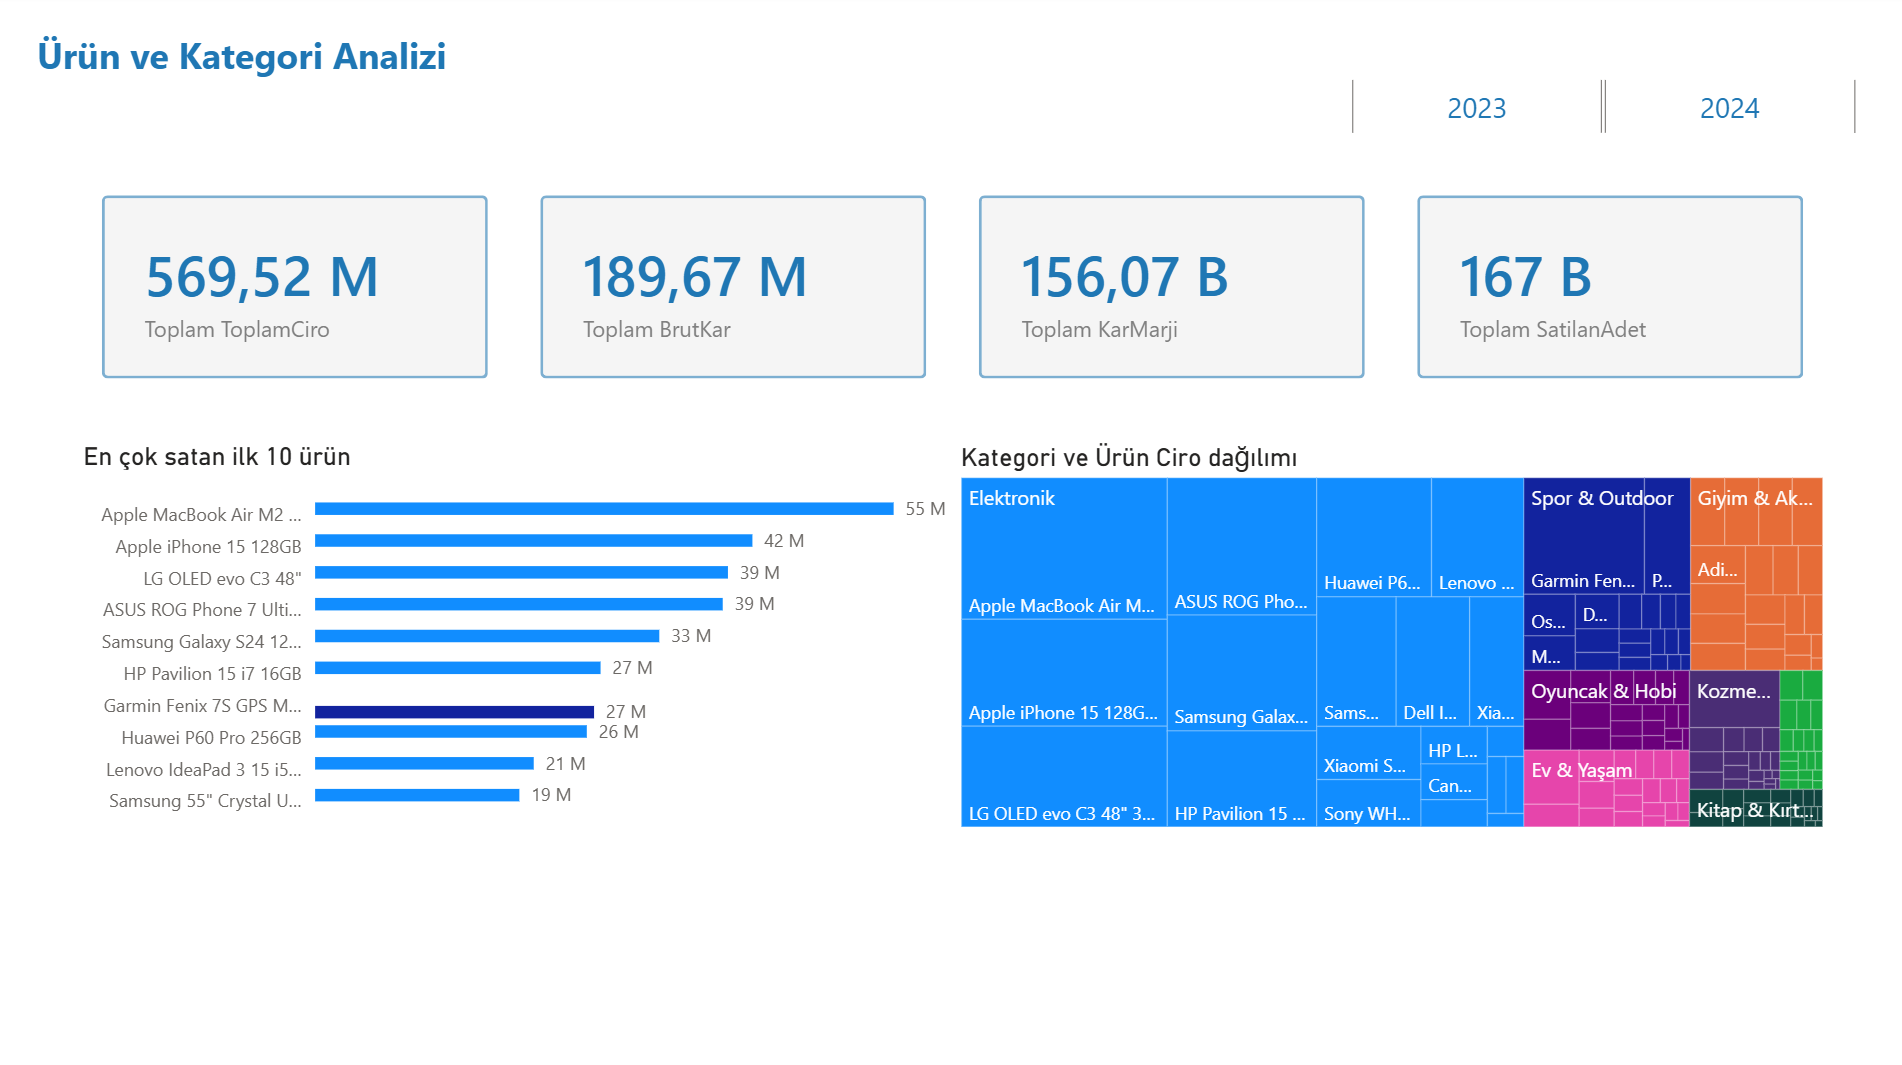

The dashboard page shown, as its layout file describes it:
{"tool":"powerbi","page":{"name":"Ürün ve Kategori","canvas":[1280,720],"ordinal":4},"visuals":[{"type":"textbox","box":[21.1,19.1,329.9,45.3],"z":0},{"type":"cardVisual","fields":{"Data":["Sum(VW_UrunPerformans.ToplamCiro)","Sum(VW_UrunPerformans.BrutKar)","Sum(VW_UrunPerformans.KarMarji)","Sum(VW_UrunPerformans.SatilanAdet)"]},"box":[52.3,117.4,1175.8,157.9],"z":1000},{"type":"clusteredBarChart","title":"En çok satan ilk 10 ürün","fields":{"Category":["VW_UrunPerformans.UrunAdi"],"Y":["Sum(VW_UrunPerformans.ToplamCiro)"],"Series":["VW_UrunPerformans.KategoriAdi"]},"box":[52.3,299.8,587.9,263.5],"z":2000},{"type":"treemap","title":"Kategori ve Ürün Ciro dağılımı","fields":{"Group":["VW_UrunPerformans.KategoriAdi"],"Values":["Sum(VW_UrunPerformans.ToplamCiro)"],"Details":["VW_UrunPerformans.UrunAdi"]},"box":[640.2,299.8,587.9,263.5],"z":3000},{"type":"slicer","fields":{"Values":["VW_UrunPerformans.Yil"]},"box":[881.6,50.7,387,49.7],"z":4000}]}

Visuals, with their boxes in screenshot pixels (x1, y1, x2, y2), scaled from the page's 1280x720 canvas onto the 1902x1065 screenshot:
textbox: (31,28,522,95)
cardVisual - Sum(VW_UrunPerformans.ToplamCiro) x Sum(VW_UrunPerformans.BrutKar): (78,174,1825,407)
"En çok satan ilk 10 ürün" clusteredBarChart: (78,443,951,833)
"Kategori ve Ürün Ciro dağılımı" treemap: (951,443,1825,833)
slicer - VW_UrunPerformans.Yil: (1310,75,1885,149)
